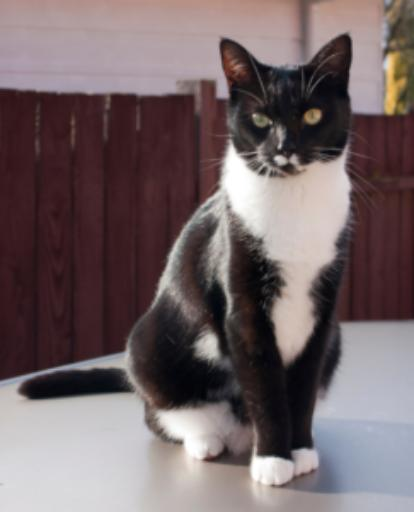cat_sitting: (128, 34, 352, 485)
